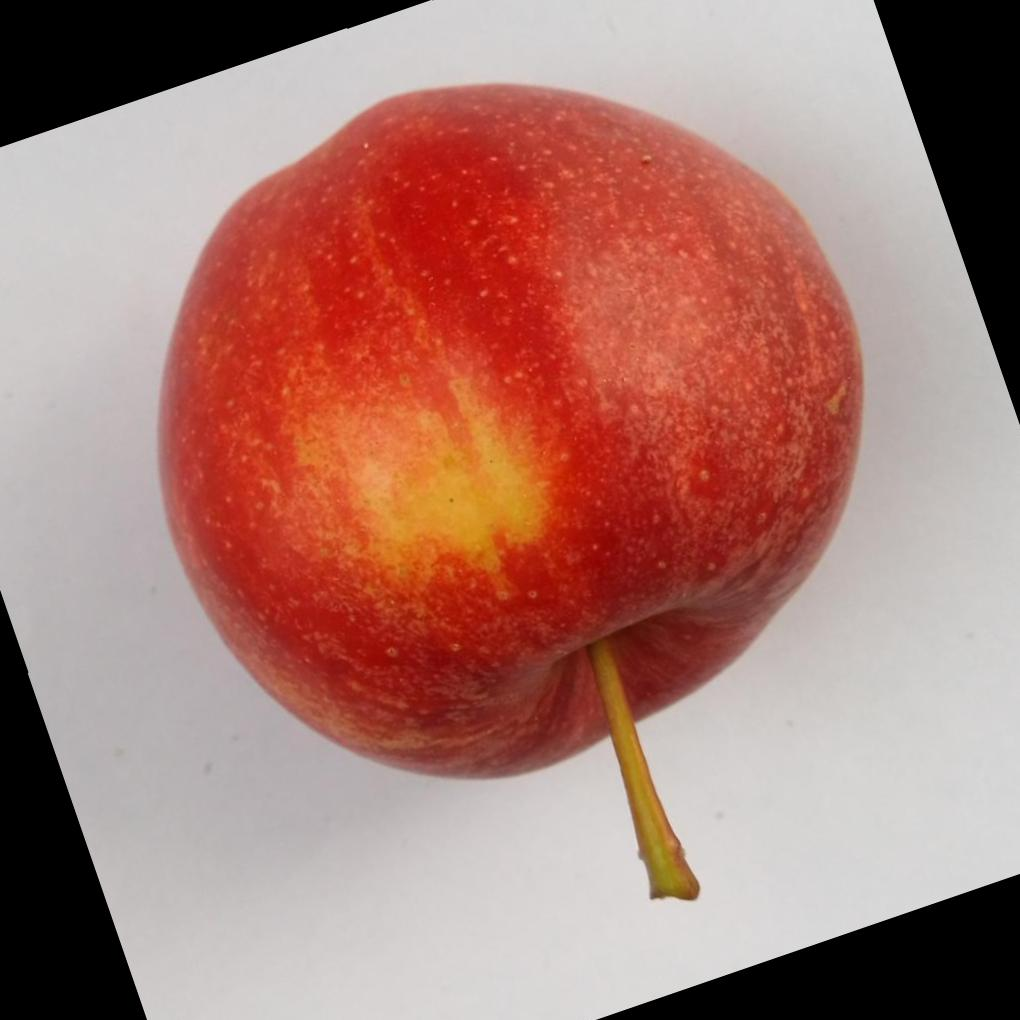FreshGuava: (152, 77, 863, 897)
